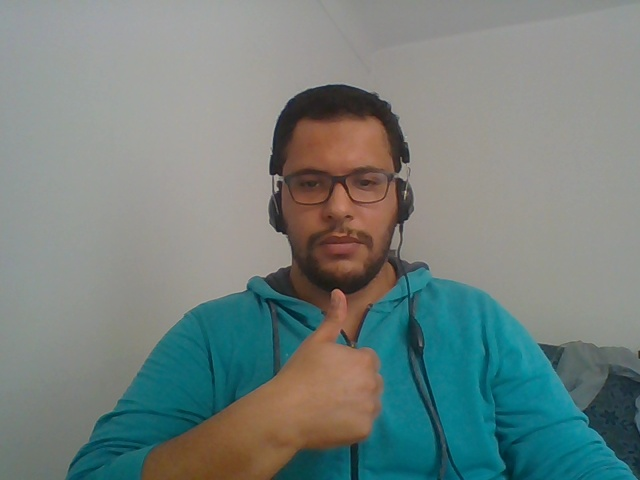ok: (251, 280, 401, 470)
